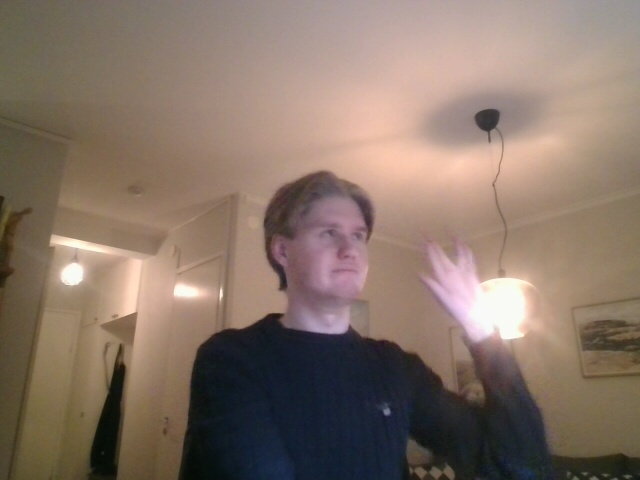LiveLong: (413, 234, 487, 323)
